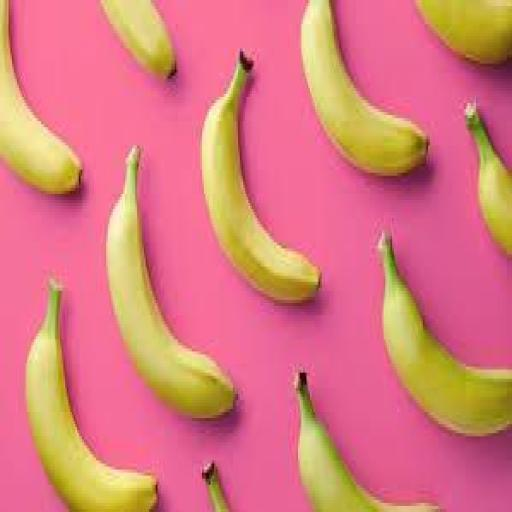banana: (107, 149, 236, 418), (26, 282, 157, 511), (203, 52, 320, 302), (379, 234, 511, 436), (302, 0, 428, 175)
